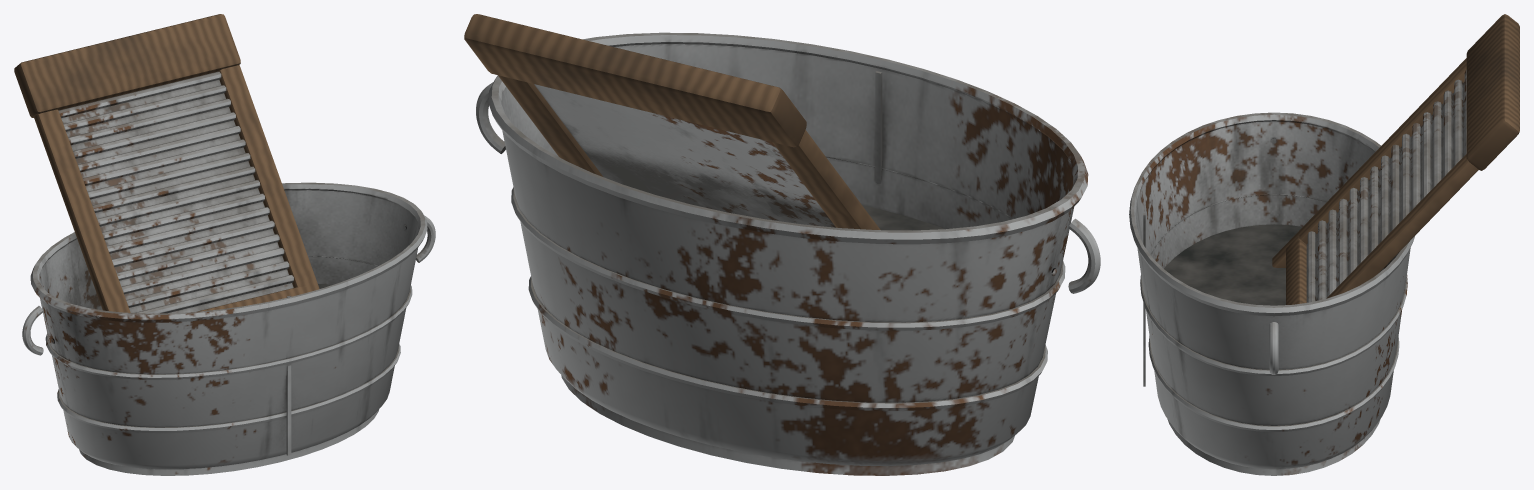
Rendered from SM_WashTub_Zinc.fbx.
3 views of the same model, side by side, from view 1: azimuth 30°, elevation 25°; view 2: azimuth 150°, elevation 25°; view 3: azimuth 270°, elevation 25° (orthographic). The views are drawn at different scales.
Parts seen in each view (by area): view 1: SM_WashTub_Zinc; view 2: SM_WashTub_Zinc; view 3: SM_WashTub_Zinc.
Boxes of the visible parts, x1,y1,x2,y2 form: SM_WashTub_Zinc: (14, 14, 435, 475); SM_WashTub_Zinc: (464, 14, 1100, 475); SM_WashTub_Zinc: (1129, 14, 1519, 475).
Bounding box in the file's own units: 0.6806 × 0.4871 × 0.5166.
1 material, 1 textured.
